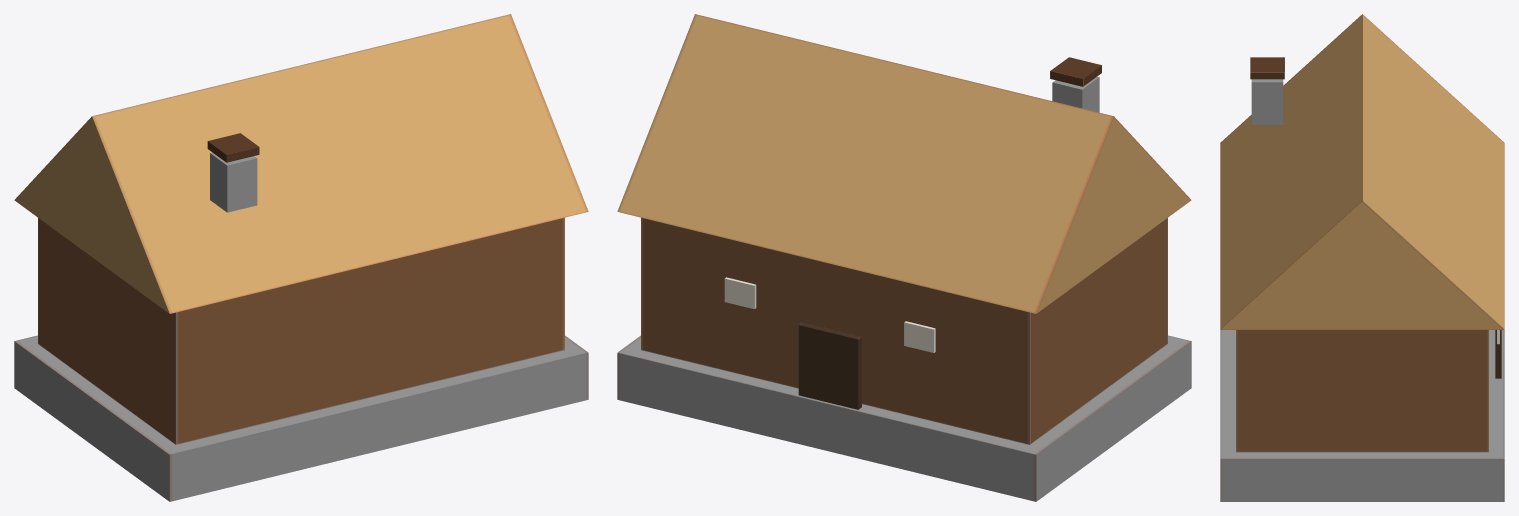
Rendered from HomeSite.fbx.
3 views of the same model, side by side, from view 1: azimuth 30°, elevation 25°; view 2: azimuth 150°, elevation 25°; view 3: azimuth 270°, elevation 25° (orthographic). The views are drawn at different scales.
Visible parts, largest first — view 1: HomeSite; view 2: HomeSite; view 3: HomeSite.
Part boxes in pixels (left/top/right/bottom): HomeSite: left=14, top=14, right=588, bottom=501; HomeSite: left=617, top=14, right=1191, bottom=501; HomeSite: left=1220, top=14, right=1504, bottom=501.
Size of the model in its own units: 280 by 210 by 180.
Materials: 1 (1 with a texture image).
